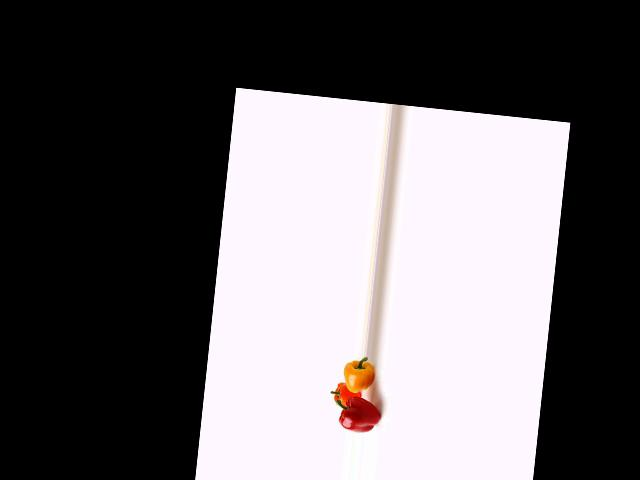bell_pepper: (329, 392, 386, 435)
